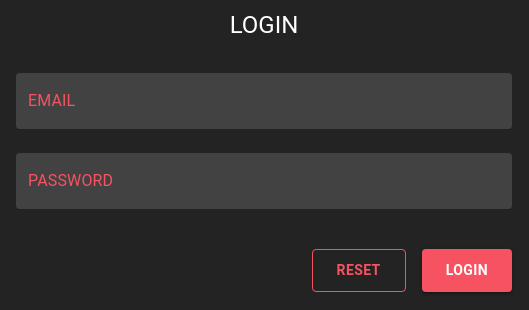
Test case: UserForm › RESET button clears all form fields
Type "test@example.com" into the field with placeholder "enter email".
click(264, 101); type("test@example.com")  # box [16,73,512,129]
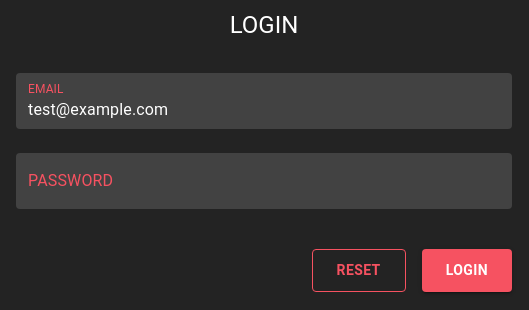
Type "password123" into the password field with placeholder "enter password".
click(264, 181); type("password123")  # box [16,153,512,209]
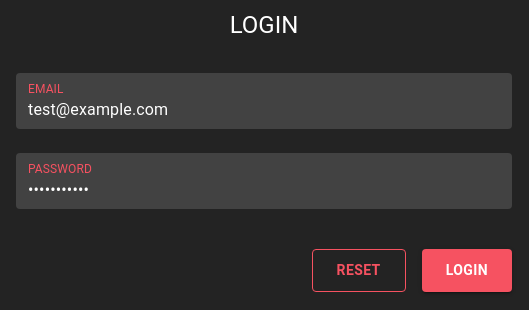
Click the button "RESET".
click(359, 270)  # box [312,249,406,292]
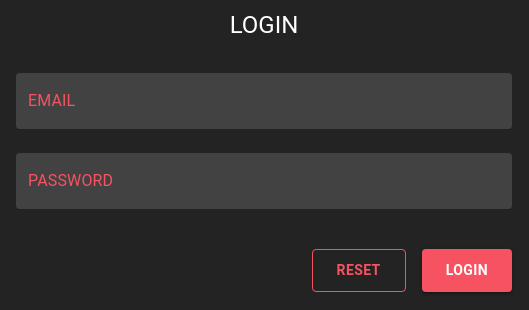
Expected: the field with placeholder "enter email" is empty, [16,73,512,129]
Expected: the password field with placeholder "enter password" is empty, [16,153,512,209]
